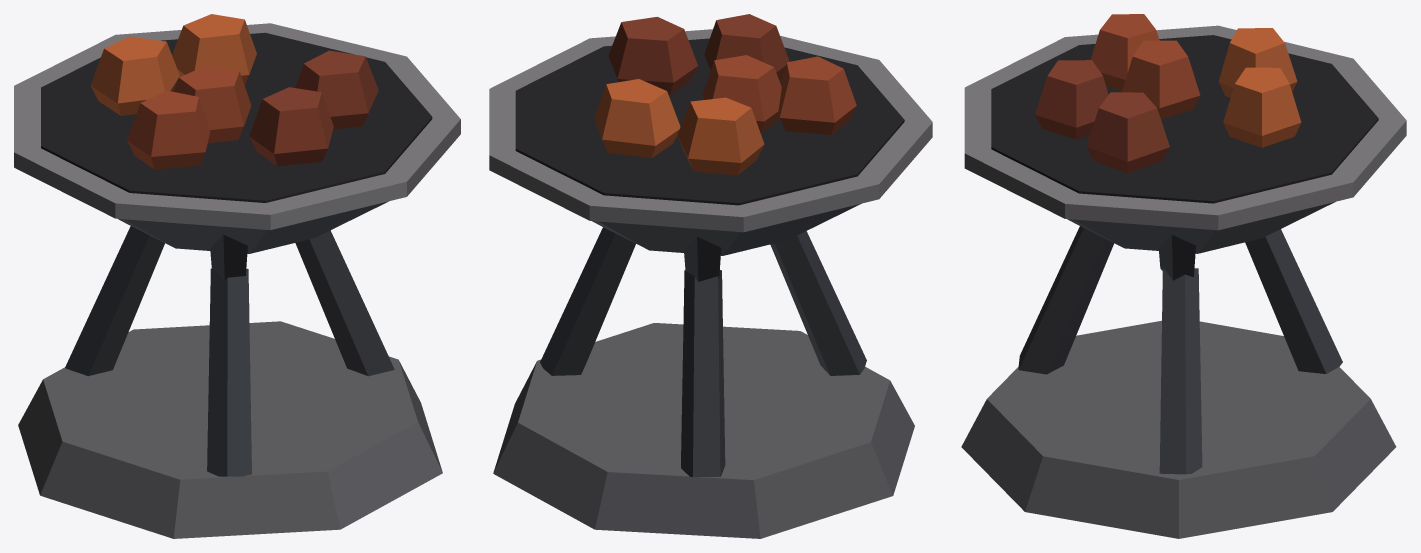
File: ember-brazier.glb
The picture shows the model from 3 angles, left to right: view 1: azimuth 30°, elevation 25°; view 2: azimuth 150°, elevation 25°; view 3: azimuth 270°, elevation 25°; orthographic projection.
Parts seen in each view (by area): view 1: Ember brazier; view 2: Ember brazier; view 3: Ember brazier.
Boxes of the visible parts, x1,y1,x2,y2 form: Ember brazier: (14, 14, 460, 538); Ember brazier: (489, 14, 932, 538); Ember brazier: (961, 14, 1406, 538).
Bounding box in the file's own units: 0.7012 × 0.657 × 0.696.
